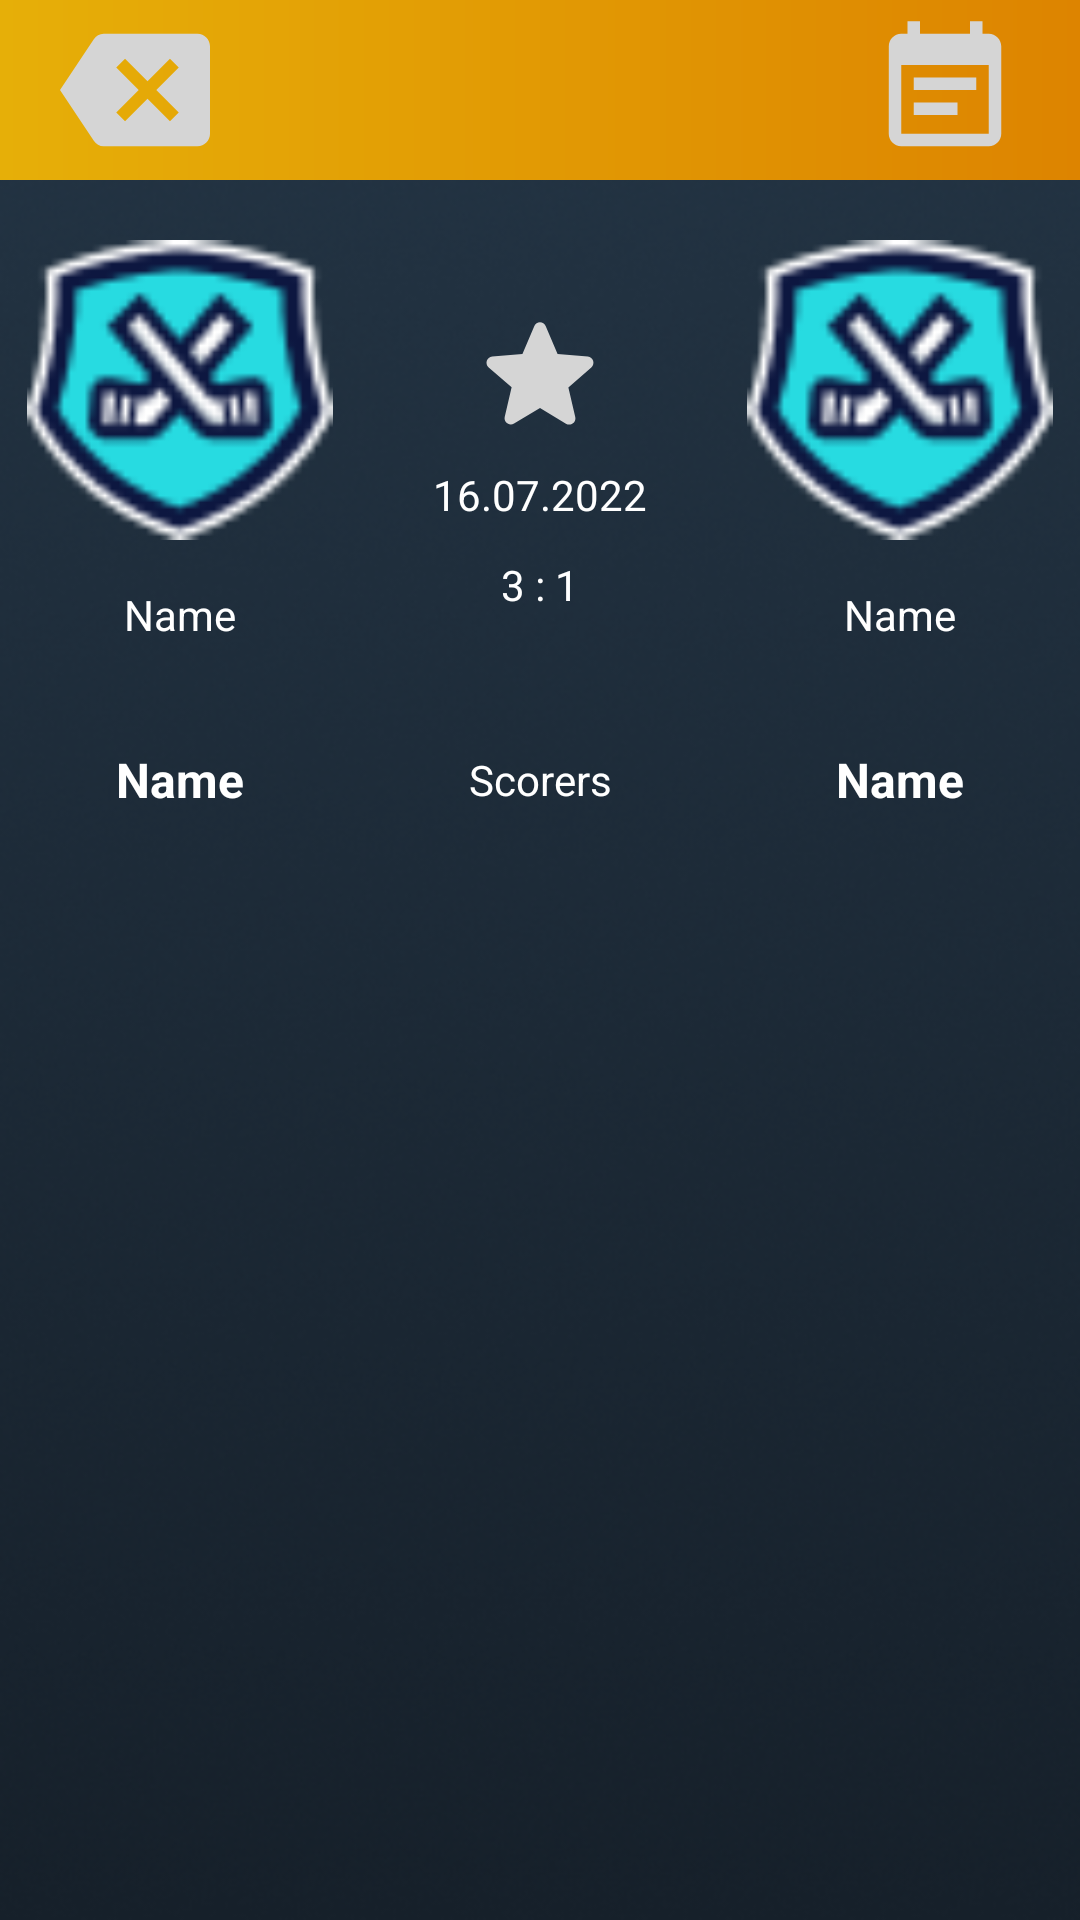

Locate icon controls on the screen. Image size 1080 × 1920, boxes as (x1, y1, x2, y2).
backspace: (60, 33, 210, 147)
notes: (888, 21, 1002, 147)
star: (486, 322, 594, 425)
